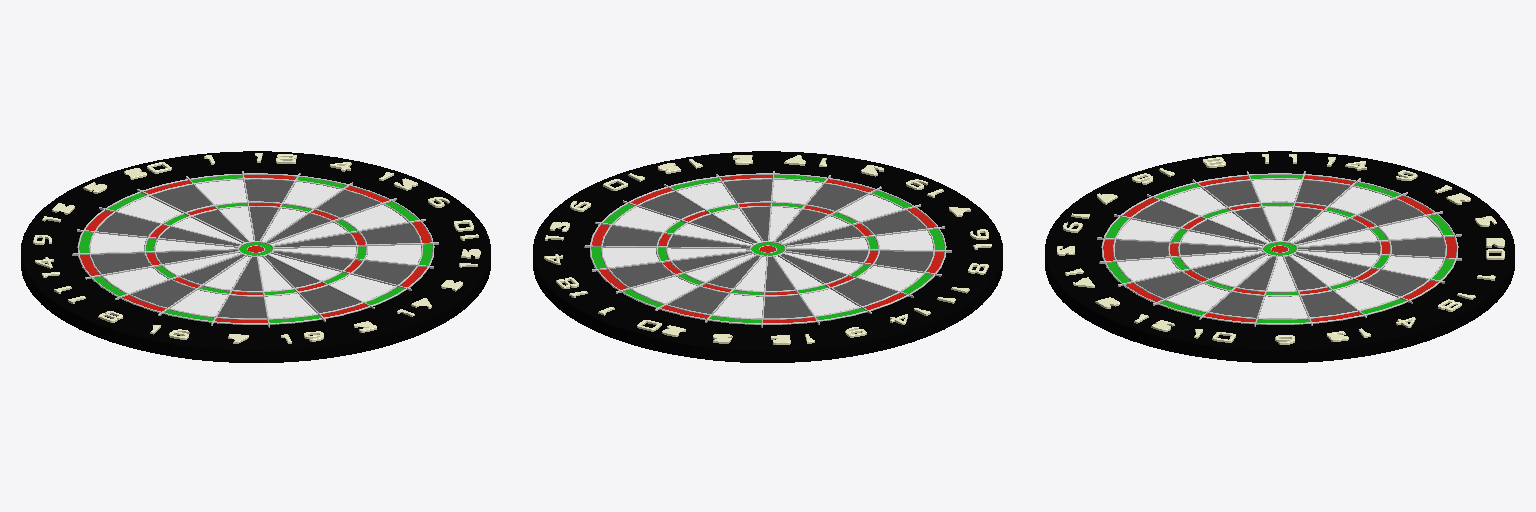
Rendered from target.obj.
3 views of the same model, side by side, from view 1: azimuth 30°, elevation 25°; view 2: azimuth 150°, elevation 25°; view 3: azimuth 270°, elevation 25° (orthographic).
Visible parts, largest first — view 1: dart; view 2: dart; view 3: dart.
Boxes of the visible parts, <box> form: dart: <box>21,151,490,362</box>; dart: <box>533,151,1002,362</box>; dart: <box>1045,151,1514,362</box>.
Size of the model in its own units: 9.9 by 0.3684 by 9.9.